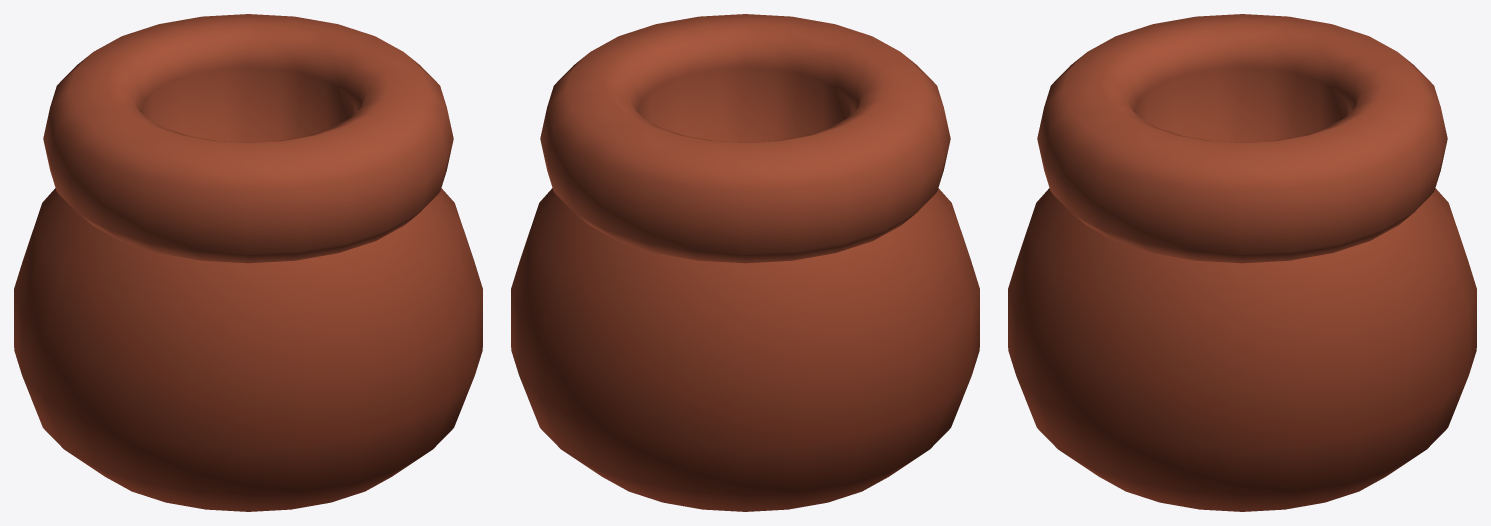
Rendered from Bowl_003.fbx.
3 views of the same model, side by side, from view 1: azimuth 30°, elevation 25°; view 2: azimuth 150°, elevation 25°; view 3: azimuth 270°, elevation 25° (orthographic).
Visible parts, largest first — view 1: Bowl_003; view 2: Bowl_003; view 3: Bowl_003.
Part boxes in pixels (<box>): Bowl_003: <box>14,14,482,511</box>; Bowl_003: <box>511,14,979,511</box>; Bowl_003: <box>1008,14,1476,511</box>.
Size of the model in its own units: 0.1145 by 0.0987 by 0.1145.
